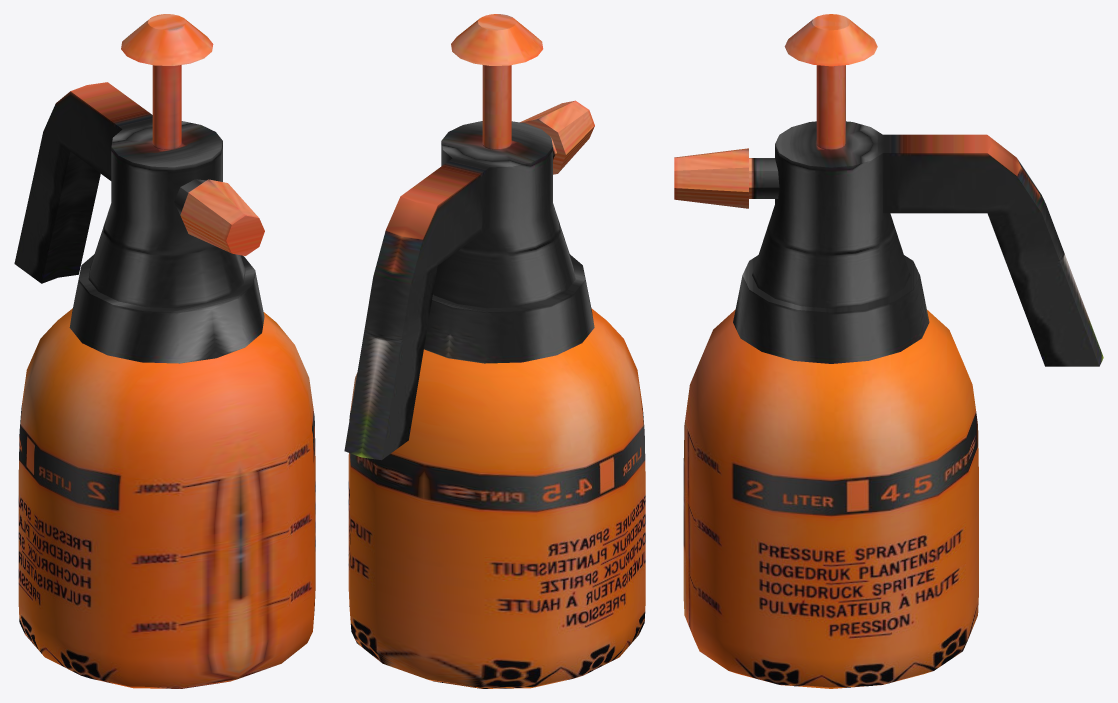
Rendered from SM_Pisticide.fbx.
The picture shows the model from 3 angles, left to right: view 1: azimuth 30°, elevation 25°; view 2: azimuth 150°, elevation 25°; view 3: azimuth 270°, elevation 25°; orthographic projection.
Parts seen in each view (by area): view 1: SM_Pisticide; view 2: SM_Pisticide; view 3: SM_Pisticide.
Part boxes in pixels (x1,y1,x2,y2): SM_Pisticide: [14, 14, 315, 688]; SM_Pisticide: [344, 14, 645, 688]; SM_Pisticide: [674, 14, 1103, 688].
Size of the model in its own units: 1.49 by 2.16 by 3.45.
1 material, 1 textured.
